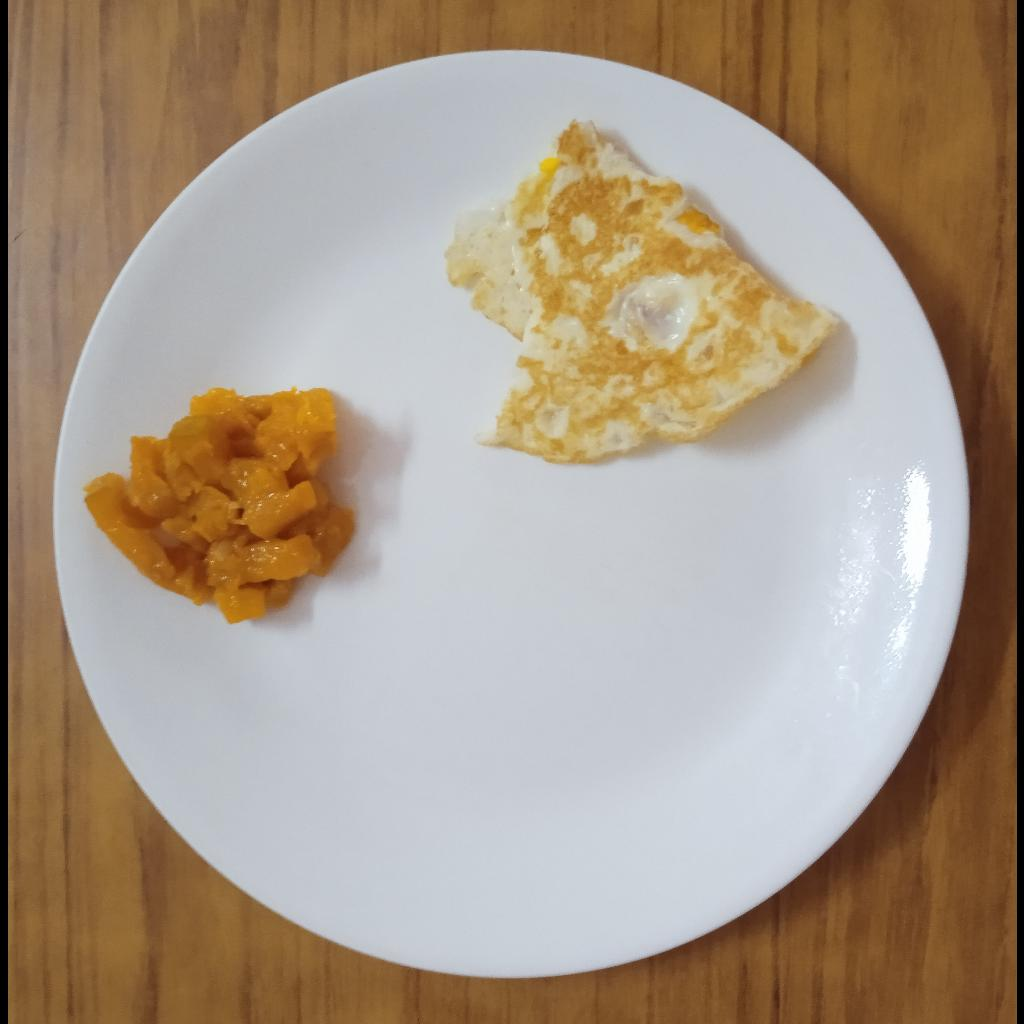egg-poached: (441, 111, 840, 465)
kumra-vaji: (82, 384, 359, 630)
